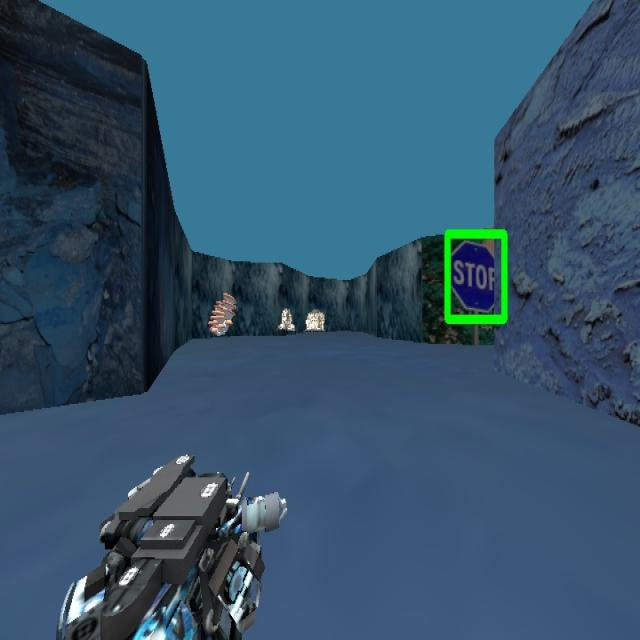Diamon: (442, 227, 508, 325)
Ice: (271, 294, 299, 342), (304, 292, 326, 343)
Mushroom: (207, 291, 237, 336)
